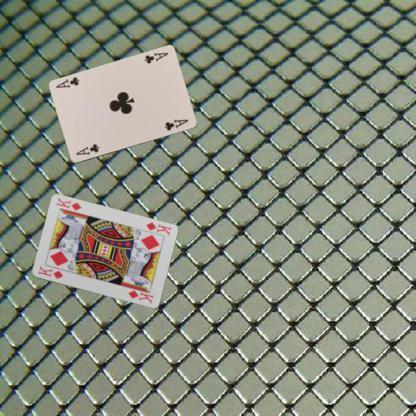Ac: (142, 51, 170, 66), (74, 142, 100, 156)
Kd: (35, 264, 64, 280), (143, 220, 172, 236)
